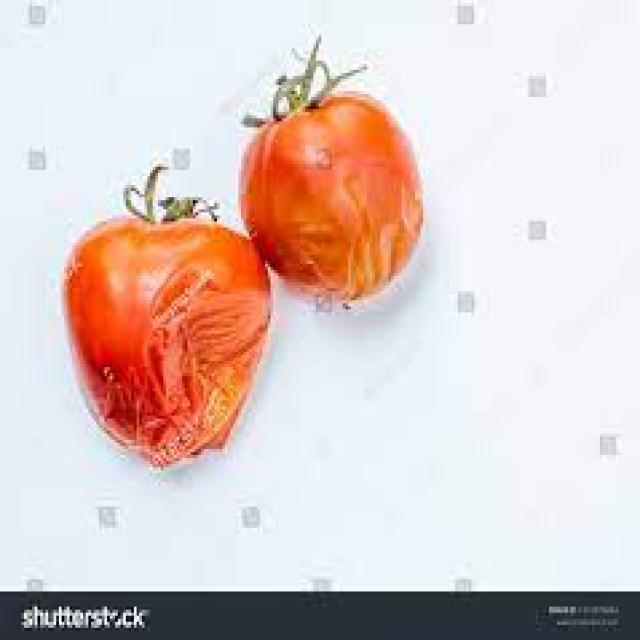overripe: (60, 203, 277, 466), (238, 87, 428, 298)
